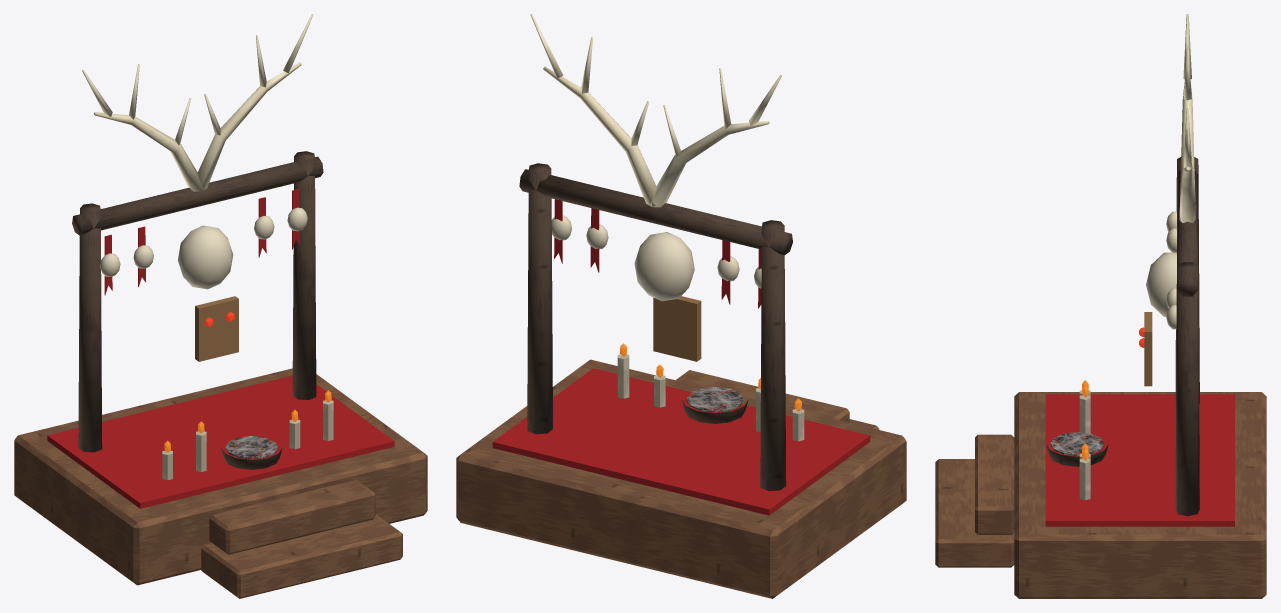
The model's file is bone_shrine.glb.
The picture shows the model from 3 angles, left to right: view 1: azimuth 30°, elevation 25°; view 2: azimuth 150°, elevation 25°; view 3: azimuth 270°, elevation 25°; orthographic projection. The views are drawn at different scales.
Parts seen in each view (by area): view 1: bone_shrine_platform, bone_shrine_frame, bone_shrine_offerings; view 2: bone_shrine_platform, bone_shrine_frame, bone_shrine_offerings; view 3: bone_shrine_platform, bone_shrine_frame, bone_shrine_offerings.
Boxes of the visible parts, x1,y1,x2,y2 form: bone_shrine_platform: (14, 368, 427, 598); bone_shrine_frame: (72, 14, 323, 452); bone_shrine_offerings: (100, 189, 333, 480); bone_shrine_platform: (456, 359, 906, 598); bone_shrine_frame: (519, 14, 792, 490); bone_shrine_offerings: (551, 199, 804, 441); bone_shrine_platform: (935, 392, 1266, 598); bone_shrine_frame: (1175, 14, 1199, 516); bone_shrine_offerings: (1046, 211, 1176, 500).
Size of what is drawn, in the model's own units: 2.2 by 3.2 by 2.1.
10 materials, 10 textured.
